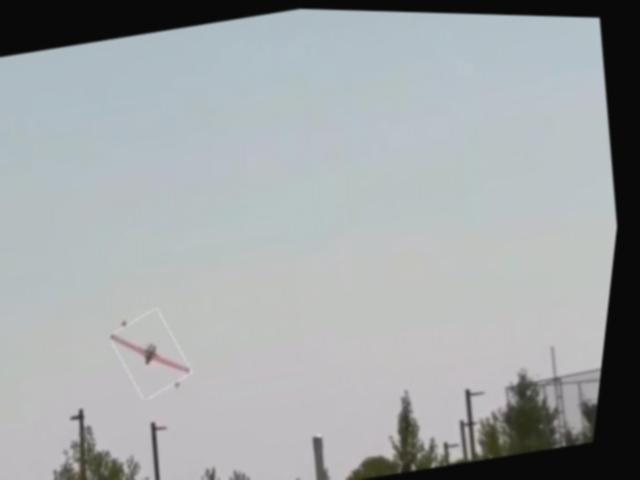insansiz-hava-araci: (114, 305, 204, 402)
